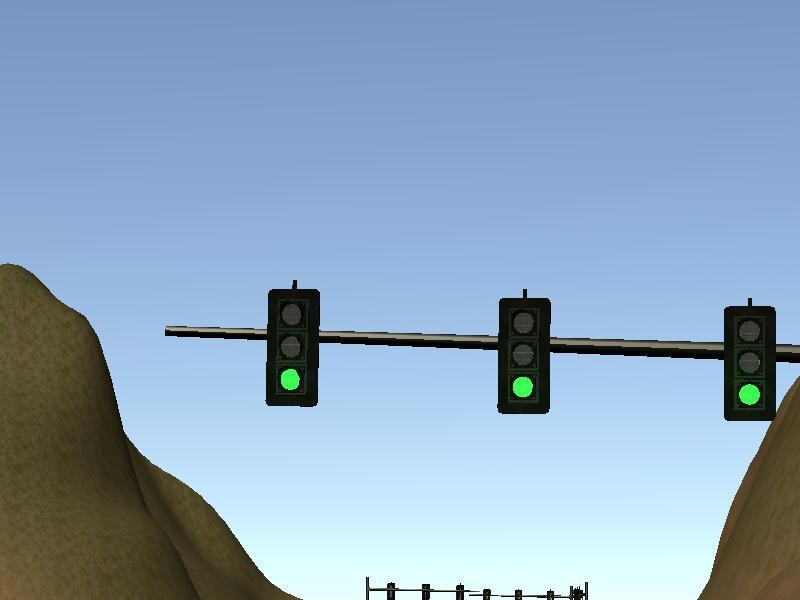Green: (723, 305, 775, 421), (498, 298, 550, 414), (267, 289, 319, 405)
